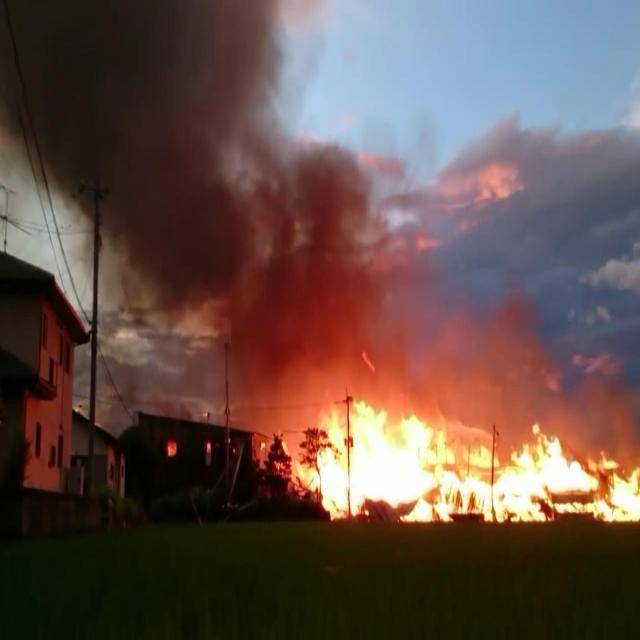Fire: (282, 398, 638, 524), (168, 442, 176, 458), (260, 438, 266, 452)
